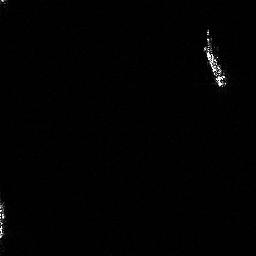ship: (200, 27, 231, 90)
